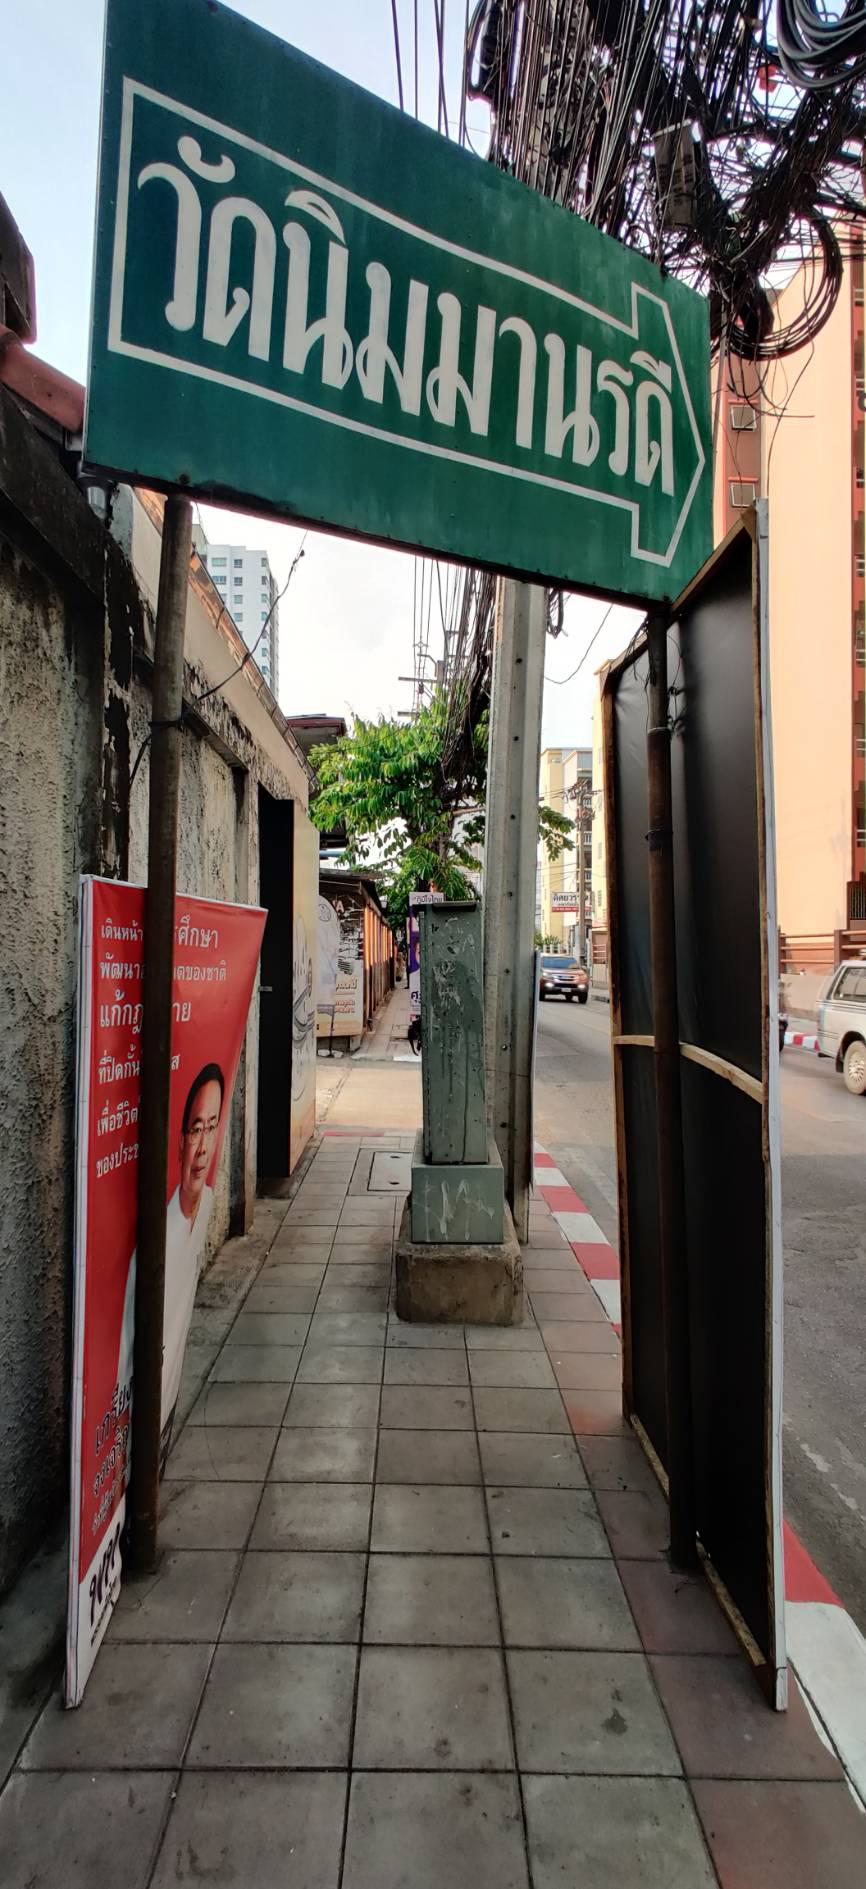Banner: (73, 876, 263, 1696)
